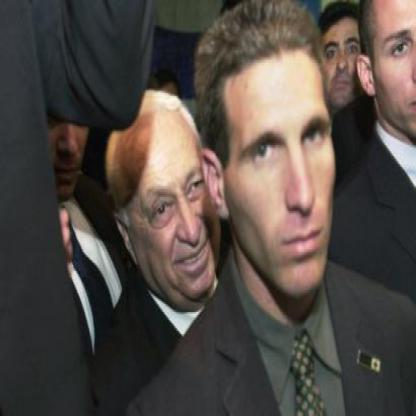face: (223, 14, 340, 305), (126, 93, 220, 311), (320, 4, 368, 108)
